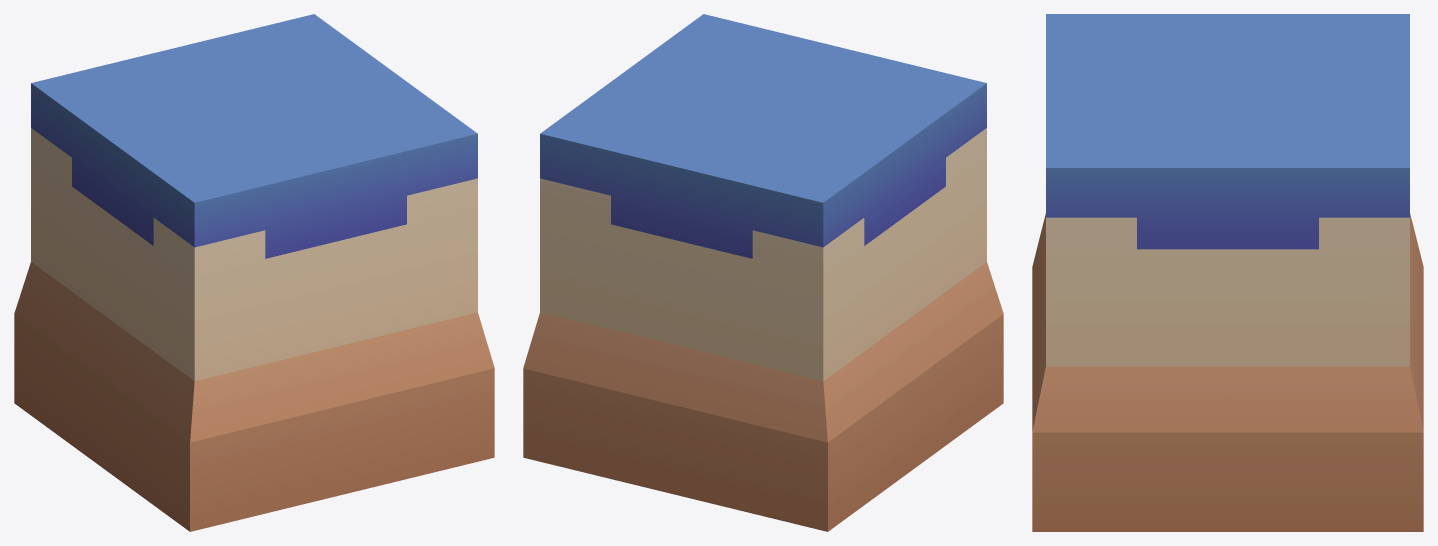
The model's file is tower-square-base-color.glb.
3 renders of one model, left to right at view 1: azimuth 30°, elevation 25°; view 2: azimuth 150°, elevation 25°; view 3: azimuth 270°, elevation 25°, orthographic. The views are drawn at different scales.
Parts seen in each view (by area): view 1: tower-square-base-color; view 2: tower-square-base-color; view 3: tower-square-base-color.
Boxes of the visible parts, x1,y1,x2,y2 form: tower-square-base-color: [14, 14, 494, 531]; tower-square-base-color: [523, 14, 1003, 531]; tower-square-base-color: [1032, 14, 1423, 531].
Size of the model in its own units: 1 by 1.01 by 1.
Materials: 1 (1 with a texture image).
